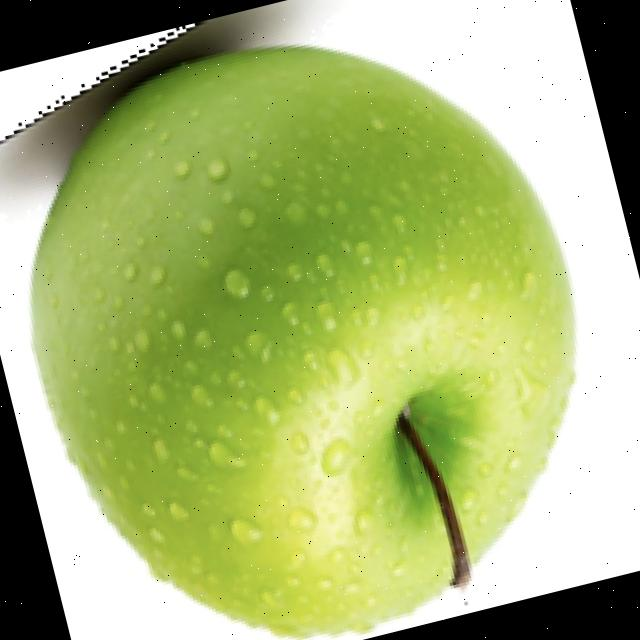apple: (0, 16, 581, 640)
